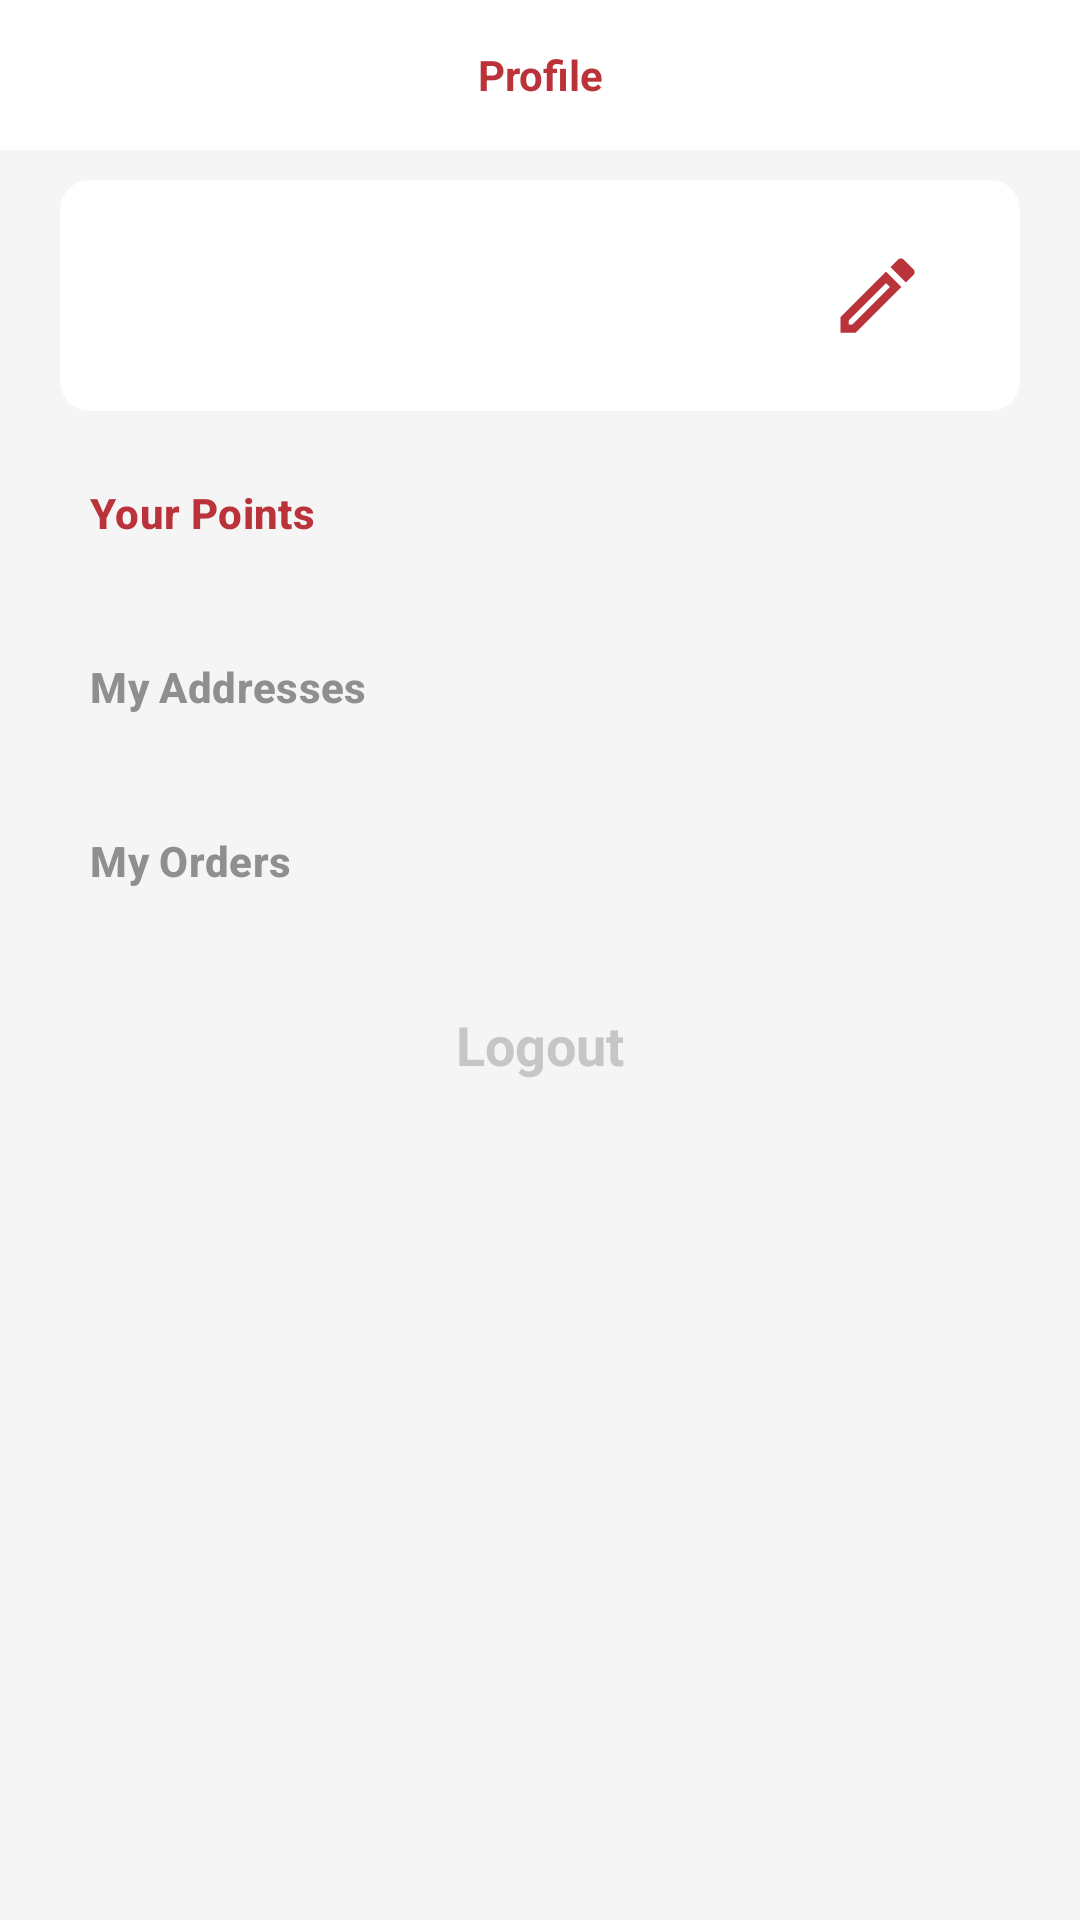

Screen size 1080w x 1920h. Icon name, then its center in pixels as [x,y]:
edit: [877,295]
